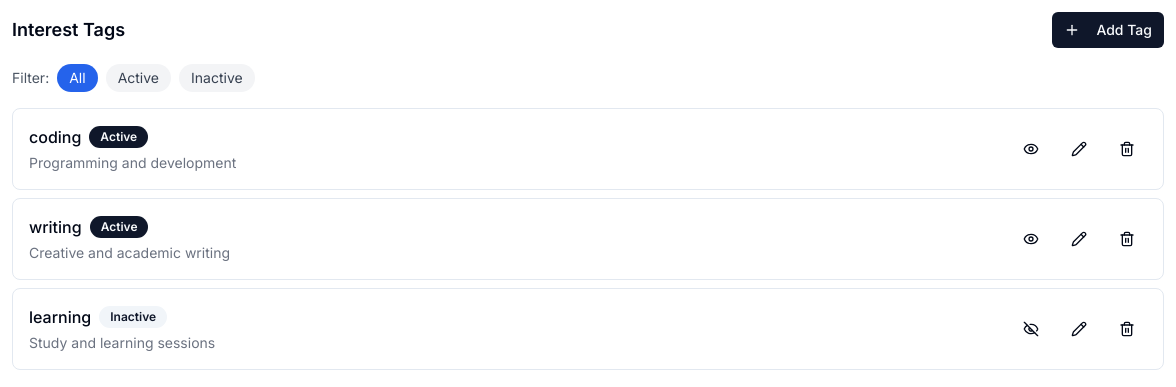
Test case: InterestTagManager › should filter tags by active status
The image size is (1176, 387).
Check: the text "coding" is shown, box left=29, top=125, right=81, bottom=149
Note: Click "active" filter
What coordinates should you click on to do the following:
click the button "active"
I would click on:
 (138, 78)
Its box is left=106, top=64, right=171, bottom=92.
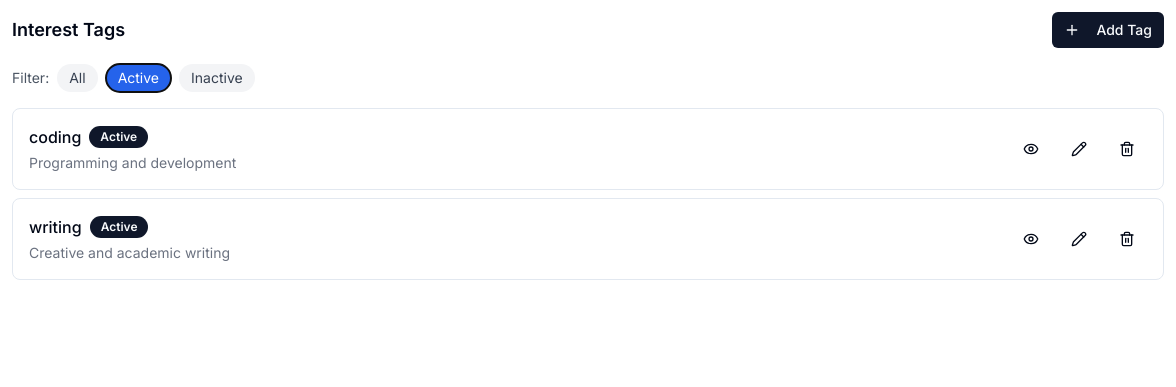
Check: the text "coding" is shown, box left=29, top=125, right=81, bottom=149
Check: the text "learning" is gone
